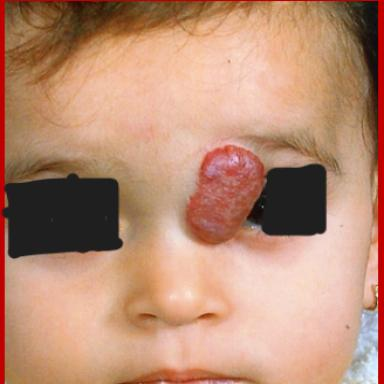Hemangiome: (186, 145, 264, 243)
